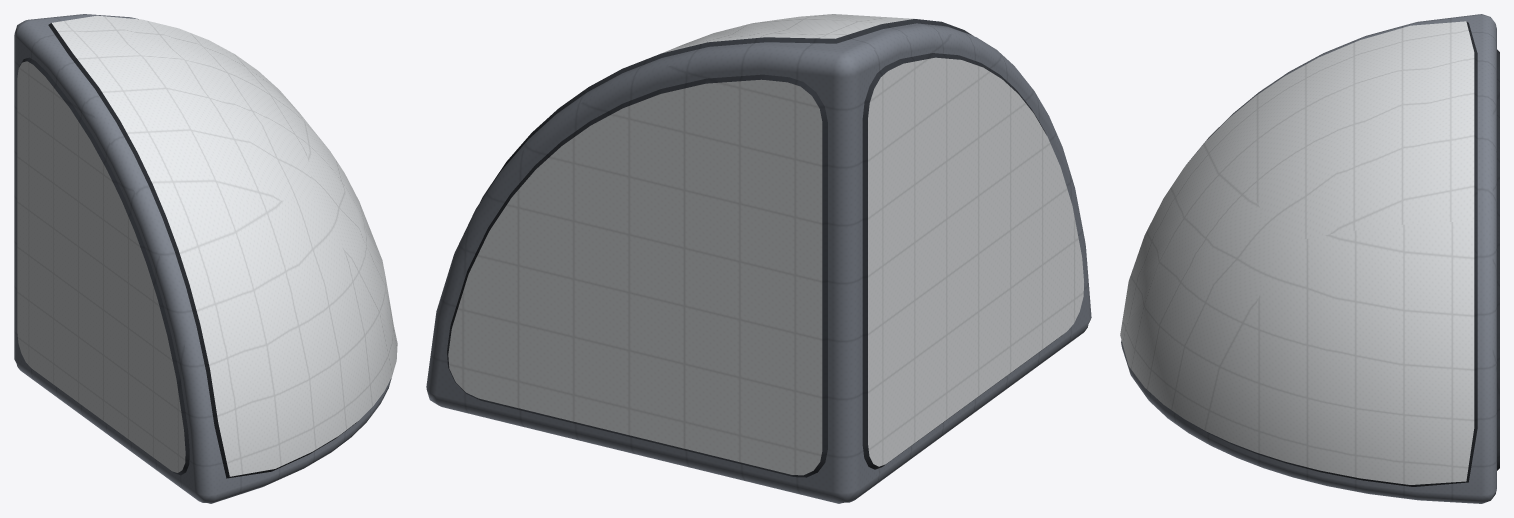
File: R4B_RoundCorner.glb
3 renders of one model, left to right at view 1: azimuth 30°, elevation 25°; view 2: azimuth 150°, elevation 25°; view 3: azimuth 270°, elevation 25°, orthographic. The views are drawn at different scales.
Visible parts, largest first — view 1: R4B_RoundCorner; view 2: R4B_RoundCorner; view 3: R4B_RoundCorner.
Boxes of the visible parts, x1=… form: R4B_RoundCorner: x1=14, y1=14, x2=397, y2=503; R4B_RoundCorner: x1=426, y1=14, x2=1091, y2=503; R4B_RoundCorner: x1=1120, y1=14, x2=1499, y2=503.
Bounding box in the file's own units: 0.5111 × 0.5111 × 0.5111.
3 materials, 3 textured.
